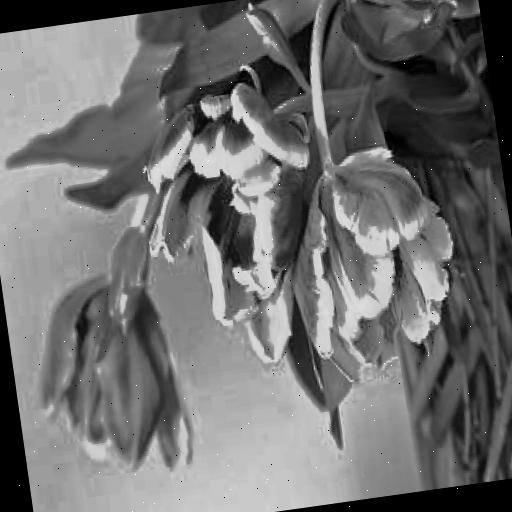tulip: (131, 70, 338, 381), (279, 144, 468, 393), (26, 262, 204, 490)
